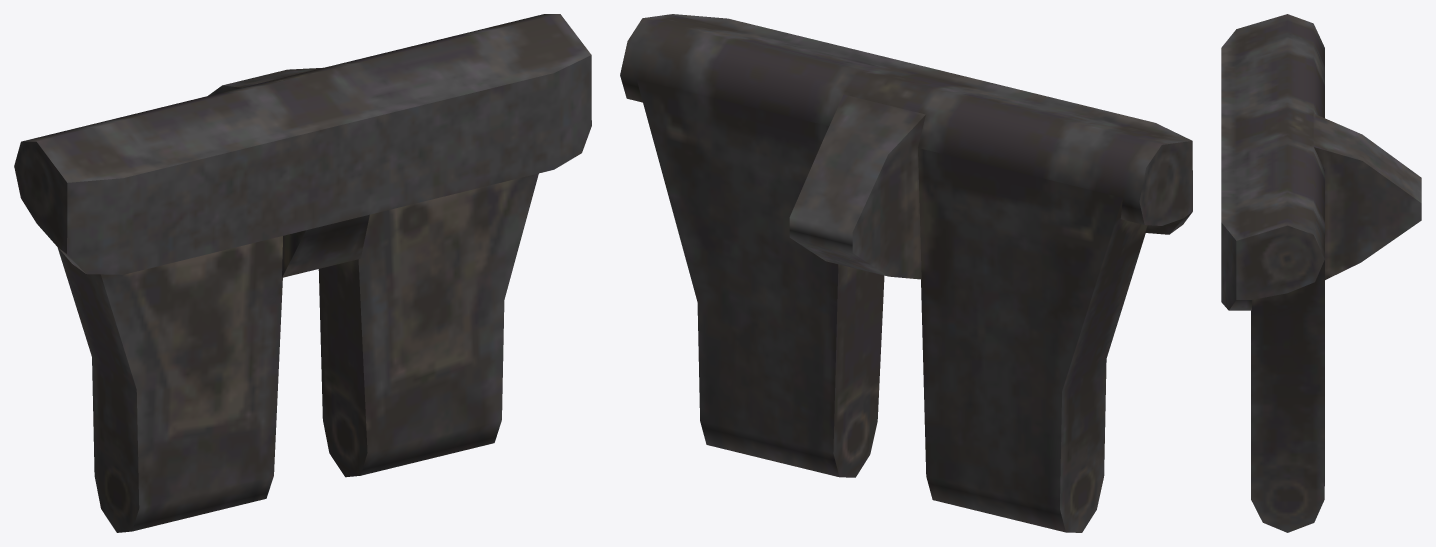
3 renders of one model, left to right at view 1: azimuth 30°, elevation 25°; view 2: azimuth 150°, elevation 25°; view 3: azimuth 270°, elevation 25°, orthographic. The views are drawn at different scales.
Visible parts, largest first — view 1: set_0_group_0; view 2: set_0_group_0; view 3: set_0_group_0.
Boxes of the visible parts, x1,y1,x2,y2 form: set_0_group_0: (14,14,591,532); set_0_group_0: (620,14,1192,532); set_0_group_0: (1221,14,1421,532).
Size of the model in its own units: 0.4969 by 0.3717 by 0.1988.
1 material, 1 textured.
